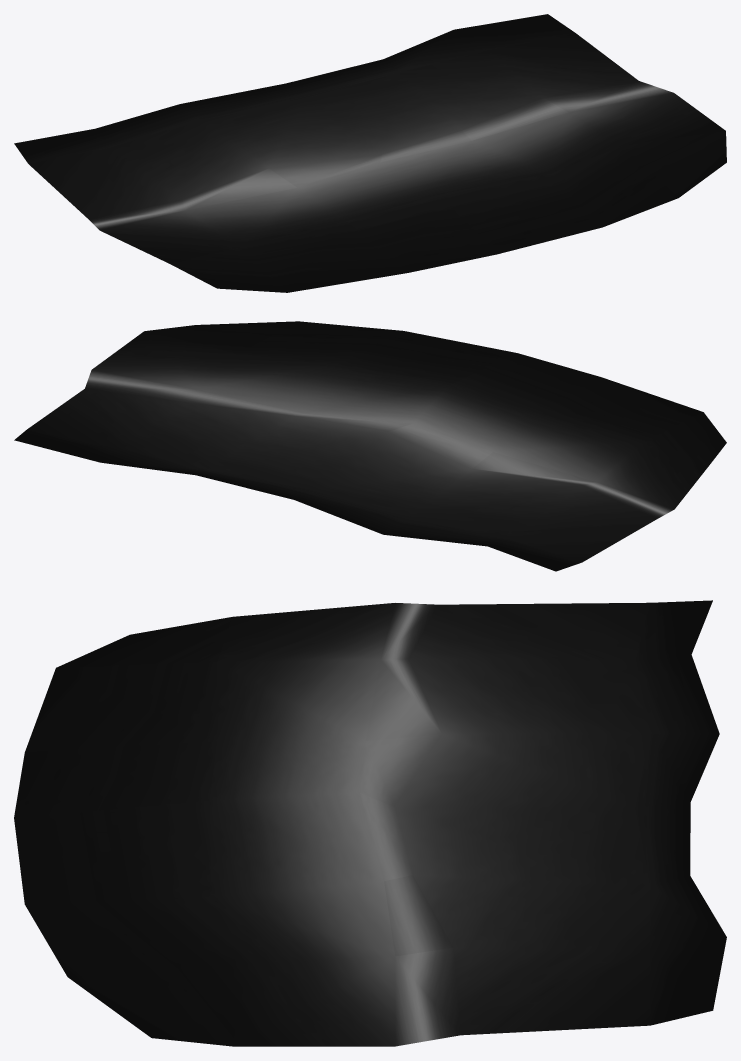
Rendered from Reflush01.FBX.
The picture shows the model from 3 angles, top to bottom: view 1: azimuth 30°, elevation 25°; view 2: azimuth 150°, elevation 25°; view 3: azimuth 270°, elevation 25°; orthographic projection. The views are drawn at different scales.
Visible parts, largest first — view 1: Reflush; view 2: Reflush; view 3: Reflush.
Boxes of the visible parts, box(x1,y1,x2,y2) form: Reflush: box(14, 14, 726, 292); Reflush: box(14, 321, 726, 571); Reflush: box(14, 600, 726, 1046).
Bounding box in the file's own units: 91.31 × 3.11 × 62.56.
Materials: 1 (1 with a texture image).
